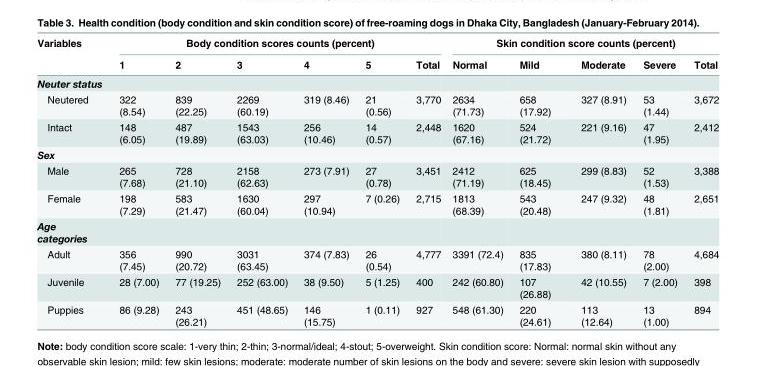table: (36, 36, 718, 326)
table column: (36, 36, 109, 326), (565, 36, 634, 326), (228, 36, 295, 326), (445, 36, 510, 326), (166, 36, 228, 326), (295, 36, 356, 326), (109, 36, 166, 326), (510, 36, 565, 326), (356, 36, 407, 326), (634, 36, 684, 326), (407, 36, 445, 326), (684, 36, 718, 326)
table column header: (36, 36, 718, 73)
table projected row header: (36, 217, 718, 246), (36, 73, 718, 91), (36, 146, 718, 162)
table row: (36, 217, 718, 246), (36, 118, 718, 146), (36, 162, 718, 190), (36, 273, 718, 301), (36, 91, 718, 118), (36, 190, 718, 217), (36, 246, 718, 273), (36, 301, 718, 326), (36, 53, 718, 73), (36, 73, 718, 91), (36, 36, 718, 53), (36, 146, 718, 162)
table spanning cell: (109, 36, 445, 53), (445, 36, 718, 53), (36, 36, 109, 73)
